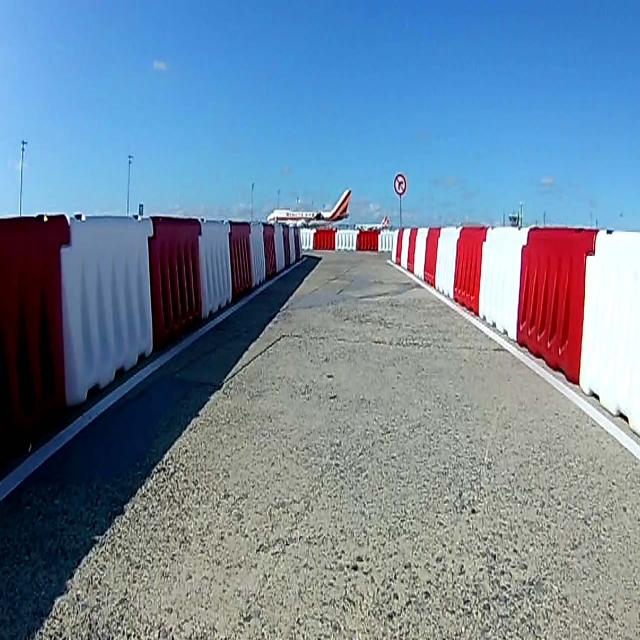sagadonulmez: (392, 172, 406, 198)
